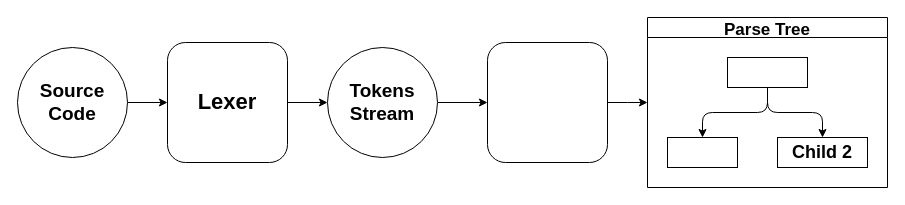
Image size: 905x205. Some labels were removed from this diagram. The centre of each missing label's shape, as x and y in pixels:
Child 1: the point at 702,152
Parser: the point at 547,102
Root: the point at 767,72
